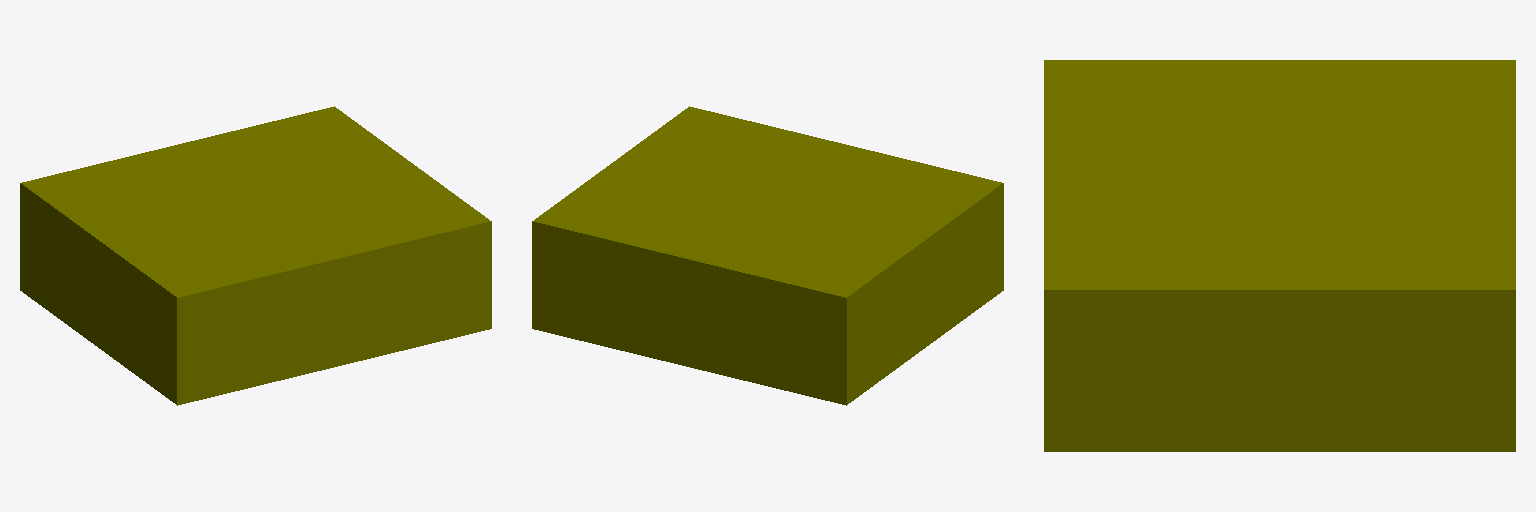
The robot description file, URDF, robot "cube":
<?xml version="1.0"?>
 <robot name="cube">
   <material name="golden">
     <color rgba="0.50196 0.50196 0 1"/>
   </material>
   <link name="base_link">
     <visual>
       <geometry>
         <box size="0.0851 0.0737 0.0279"/>
       </geometry>
       <material name="golden"/>
     </visual>
     <inertial>
       <mass value="0"/>
       <inertia ixx="1.0" ixy="0.0" ixz="0.0" iyy="1.0" iyz="0.0" izz="1.0"/>
     </inertial>
   </link>
 </robot>

--- Render facts (derived) ---
The picture shows the robot from 3 angles, left to right: view 1: azimuth 30°, elevation 25°; view 2: azimuth 150°, elevation 25°; view 3: azimuth 270°, elevation 25°; orthographic projection.
Robot: cube — 1 links, 0 joints (none); root link base_link; default pose: every joint at zero.
Links seen in each view (by area): view 1: base_link; view 2: base_link; view 3: base_link.
Link boxes in pixels (<box>): base_link: <box>20,106,491,405</box>; base_link: <box>532,106,1003,405</box>; base_link: <box>1044,60,1515,451</box>.
Size in the robot's own frame: 0.0851 by 0.0737 by 0.0279 metres.
Geometry: primitives only (box / cylinder / sphere), no mesh files.